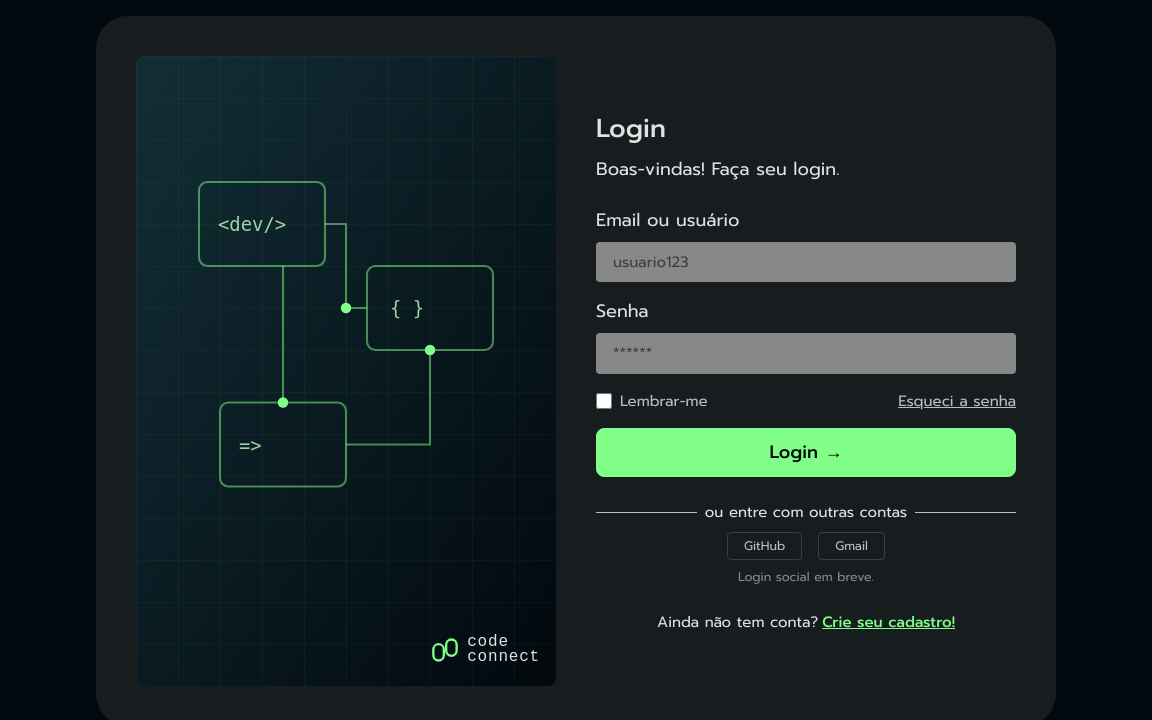
Página de Login › mostra erros ao enviar o formulário vazio
The width and height of the screenshot is (1152, 720).
Step 1. Click the button "Login →" → (806, 452), box [596,428,1016,477]
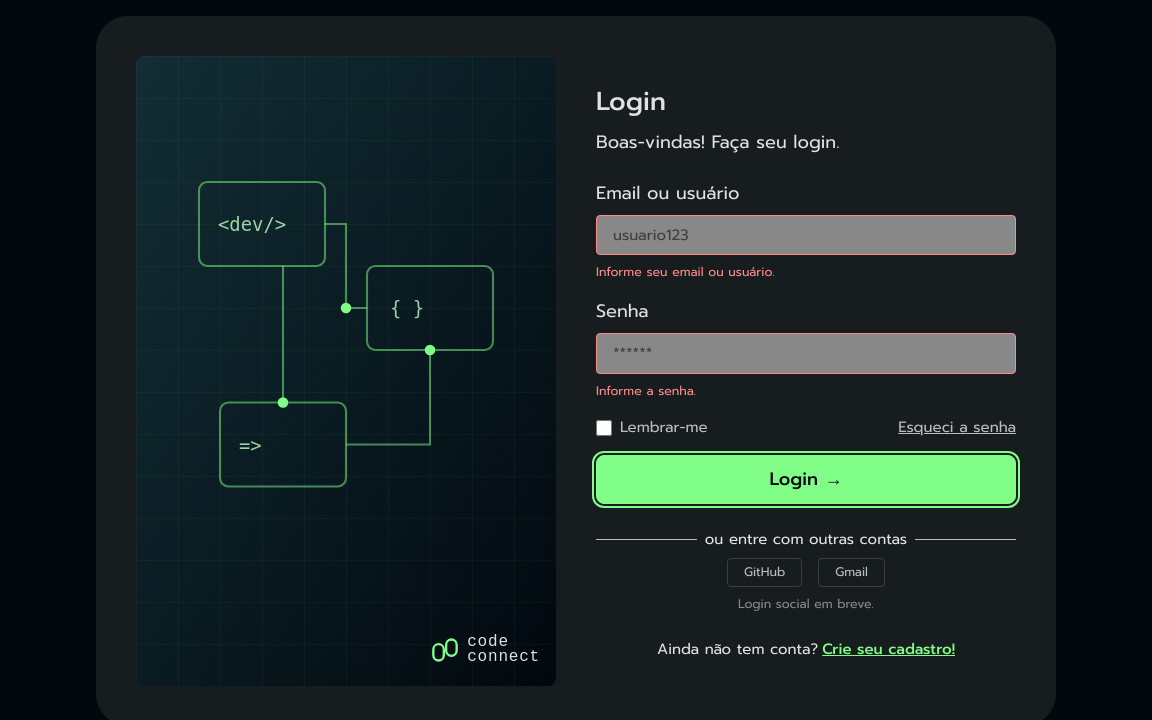
Check: the text "Informe seu email ou usuário." is shown, box [596,262,775,281]
Check: the text "Informe a senha." is shown, box [596,380,696,400]
